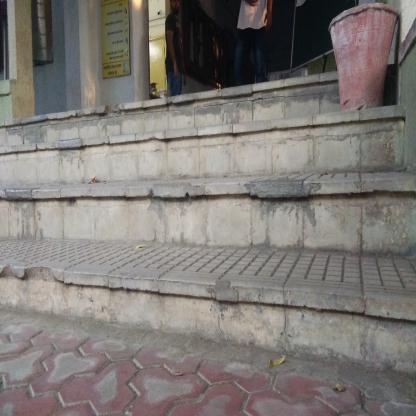stairs: (1, 105, 405, 344)
